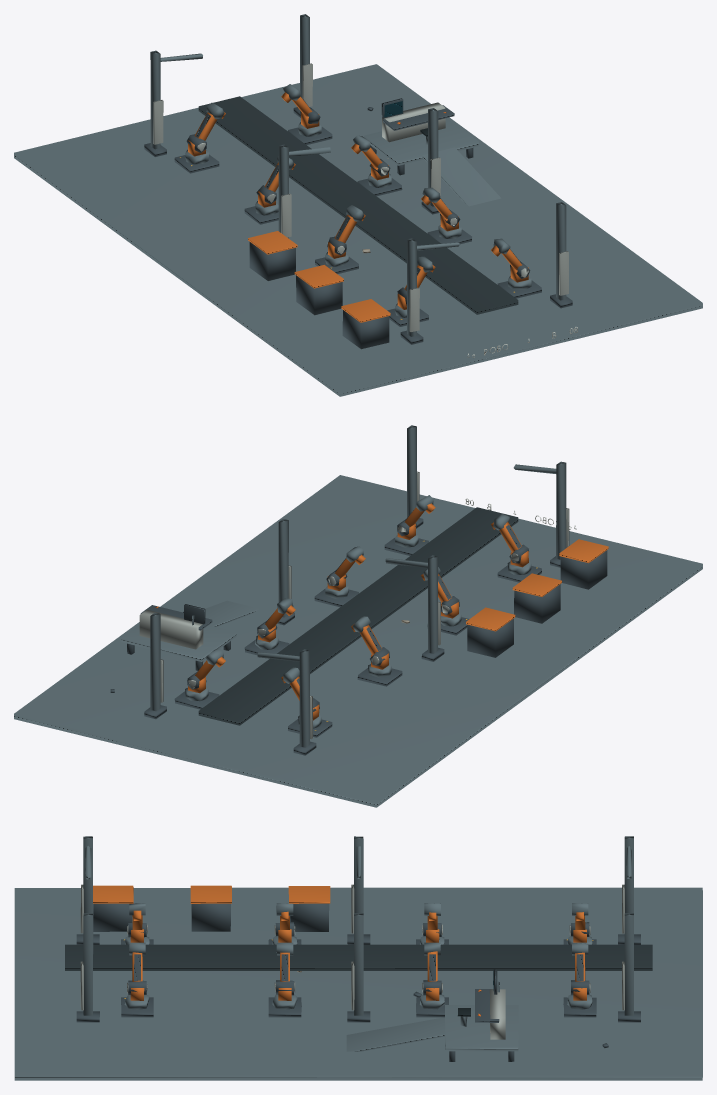
The model's file is robotic_assembly_line_d2_lod1.meshopt.glb.
3 renders of one model, top to bottom at view 1: azimuth 30°, elevation 25°; view 2: azimuth 150°, elevation 25°; view 3: azimuth 270°, elevation 25°, orthographic. The views are drawn at different scales.
Visible parts, largest first — view 1: ROBOTIC_ASSEMBLY_LINE_LOD1_STATIC_GEOMETRY; view 2: ROBOTIC_ASSEMBLY_LINE_LOD1_STATIC_GEOMETRY; view 3: ROBOTIC_ASSEMBLY_LINE_LOD1_STATIC_GEOMETRY.
Part boxes in pixels (<box>): ROBOTIC_ASSEMBLY_LINE_LOD1_STATIC_GEOMETRY: <box>14,14,702,396</box>; ROBOTIC_ASSEMBLY_LINE_LOD1_STATIC_GEOMETRY: <box>14,425,702,807</box>; ROBOTIC_ASSEMBLY_LINE_LOD1_STATIC_GEOMETRY: <box>14,836,702,1080</box>.
Bounding box in the file's own units: 17.99 × 4.97 × 28.02.
